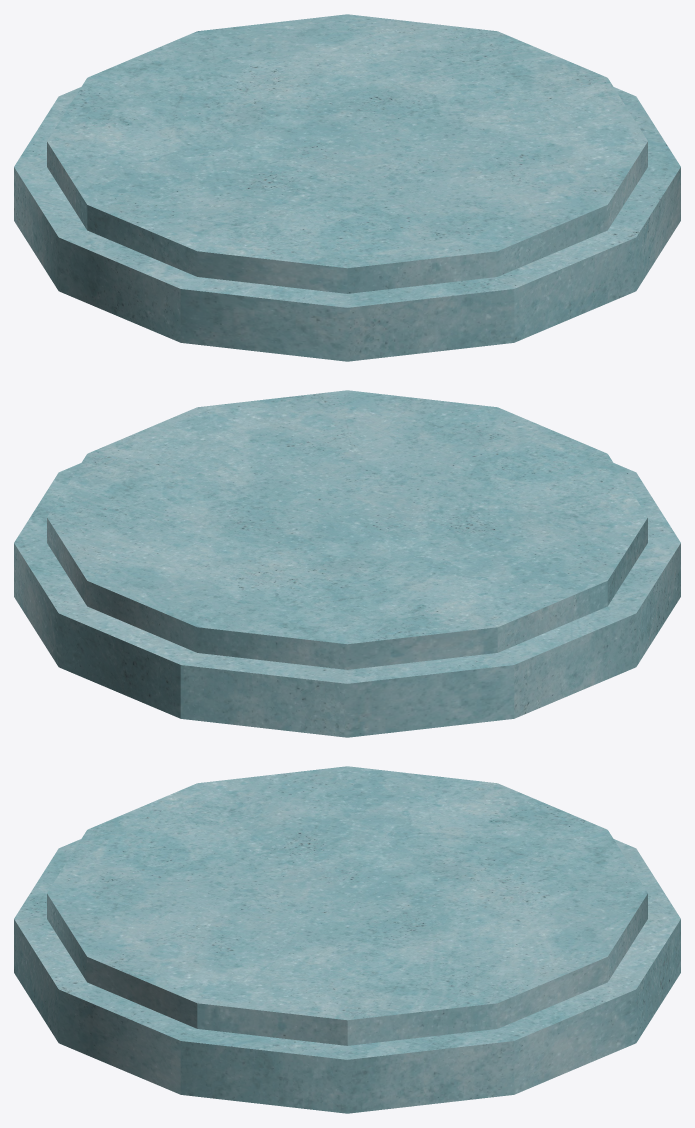
File: podium.gltf
The picture shows the model from 3 angles, top to bottom: view 1: azimuth 30°, elevation 25°; view 2: azimuth 150°, elevation 25°; view 3: azimuth 270°, elevation 25°; orthographic projection.
Visible parts, largest first — view 1: Circle; view 2: Circle; view 3: Circle.
Part boxes in pixels (left/top/right/bottom): Circle: left=14, top=14, right=680, bottom=361; Circle: left=14, top=390, right=680, bottom=737; Circle: left=14, top=766, right=680, bottom=1113.
Size of the model in its own units: 10.54 by 1.39 by 10.54.
1 material, 1 textured.
